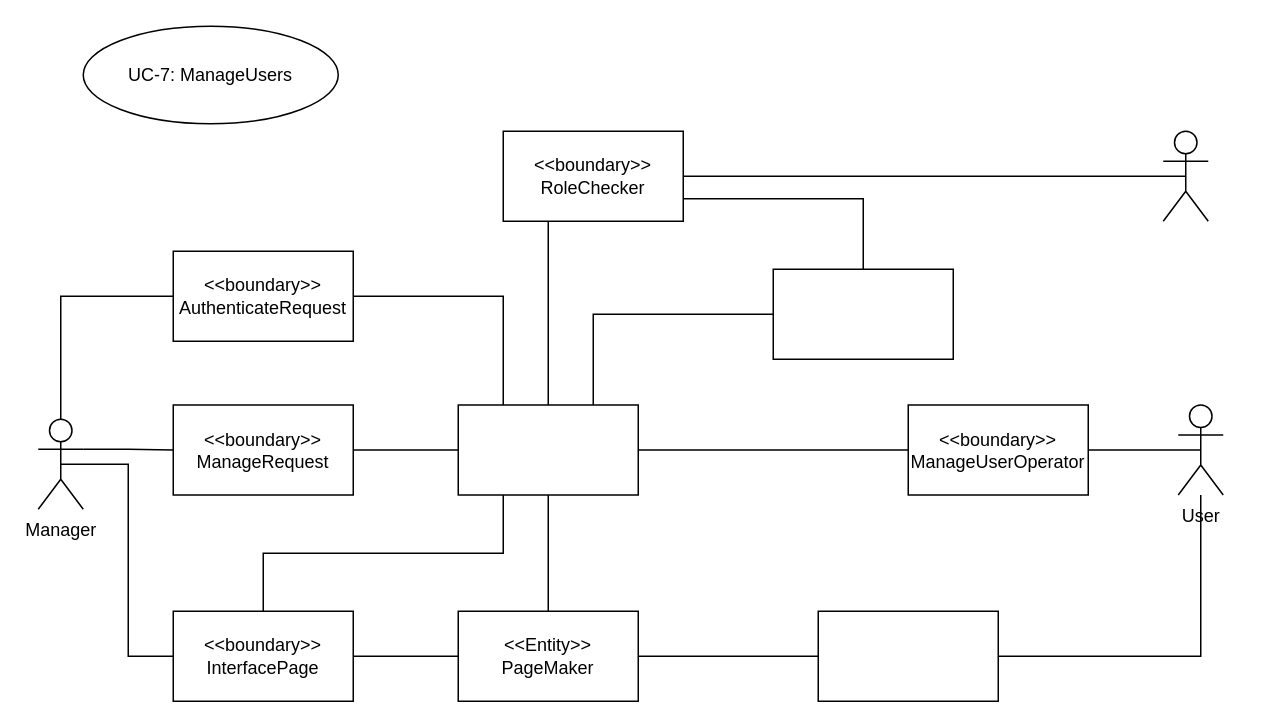
Image size: 1265x728. Some labels were removed from this diagram. The centre of each missing label's shape, as x and y in pixels:
<<boundary>> User Connection: [907,655]
<<control>> Controller: [547,449]
<<Entity>> Role: [862,313]
Authenticator: [1185,175]
